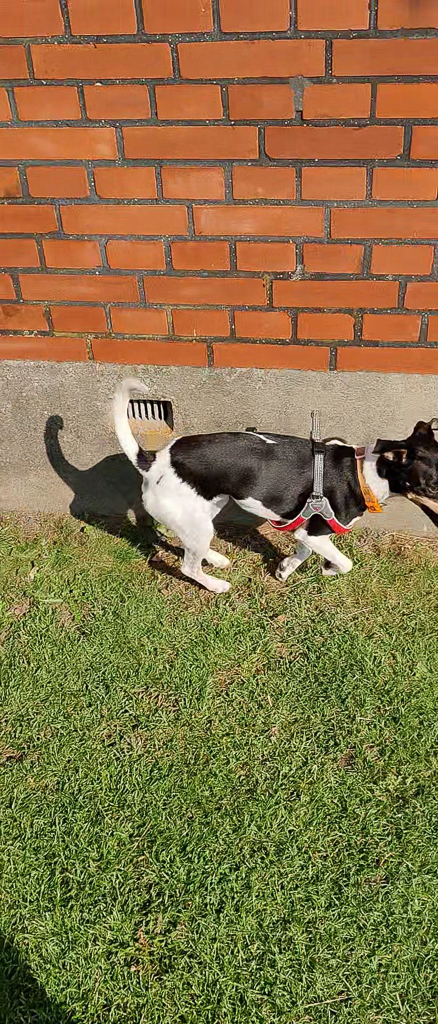Dog: (96, 364, 438, 613)
